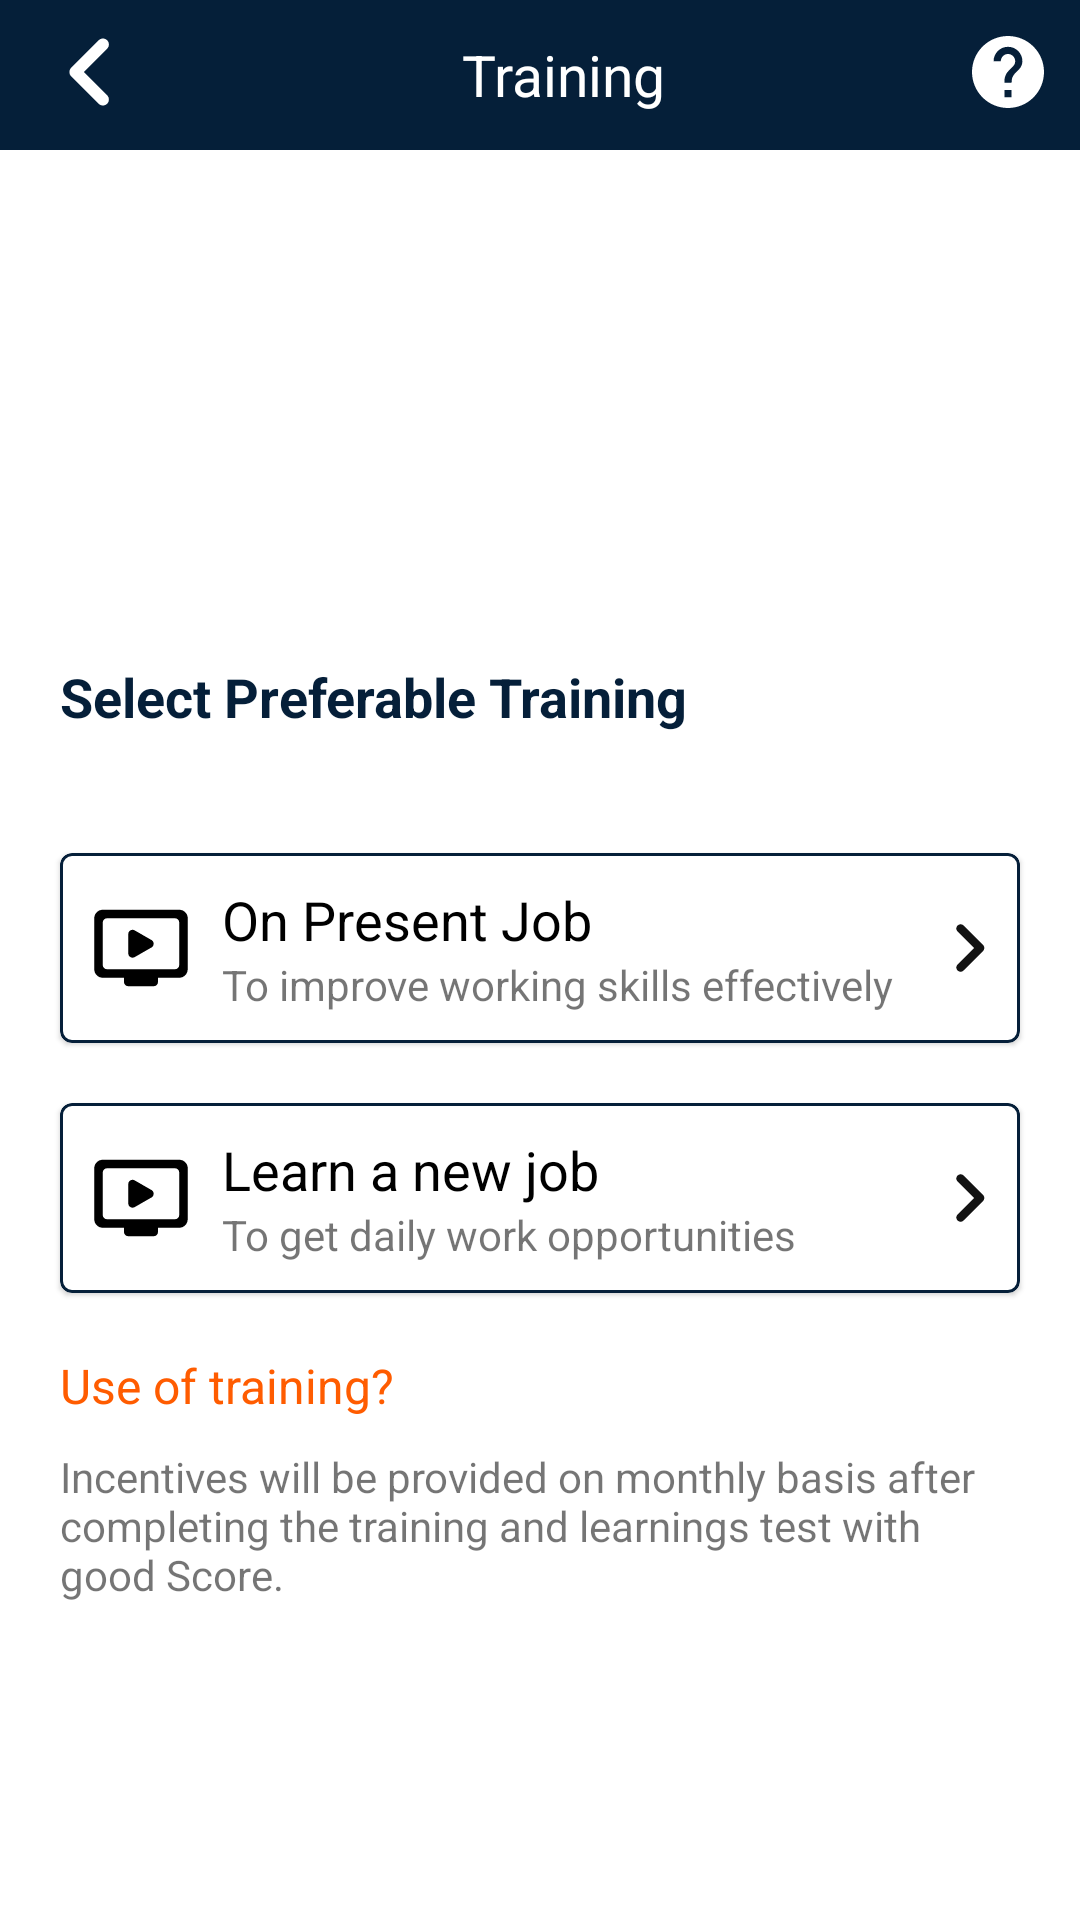

Locate icon controls on the screen. Image size 1080x1920, boxes as {"x1": x1, "y1": y1, "x2": x2, "y2": y2}.
next: {"x1": 956, "y1": 924, "x2": 985, "y2": 972}, {"x1": 956, "y1": 1174, "x2": 985, "y2": 1222}
question: {"x1": 972, "y1": 36, "x2": 1044, "y2": 108}
video: {"x1": 94, "y1": 909, "x2": 188, "y2": 987}, {"x1": 94, "y1": 1159, "x2": 188, "y2": 1237}
